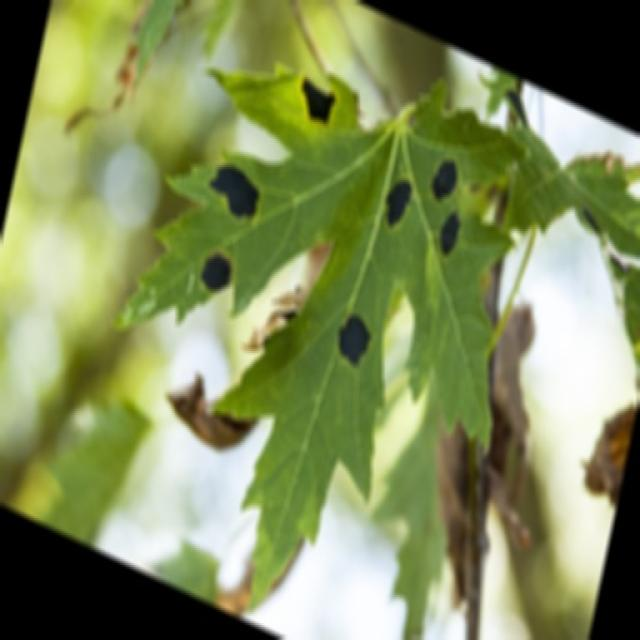Tar_Spot: (178, 50, 482, 391)
